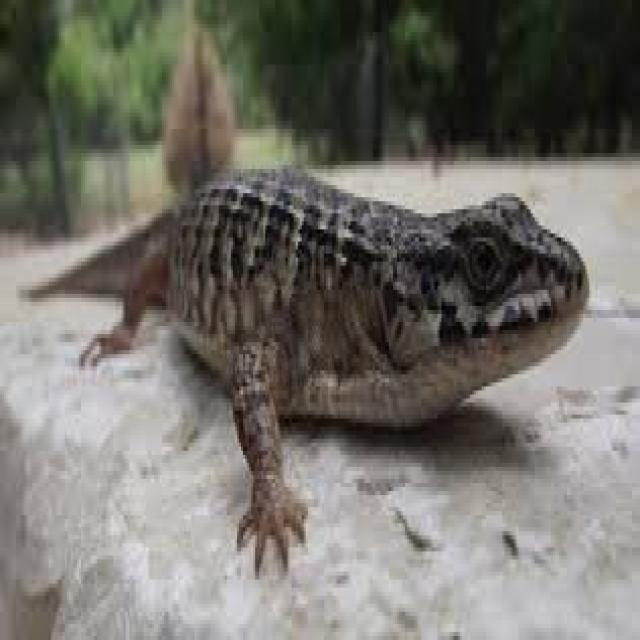Lizard: (50, 146, 597, 560)
